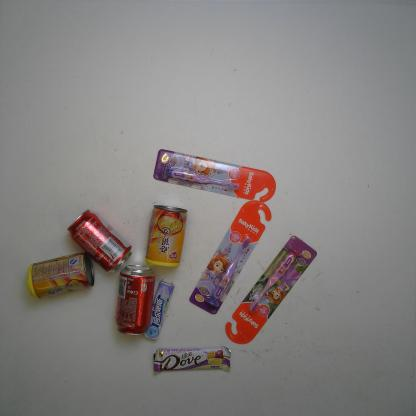Candy: (143, 278, 175, 340)
Canned Food: (26, 252, 95, 300), (145, 205, 188, 269)
Chocolate: (152, 346, 232, 375)
Drink: (67, 208, 133, 274), (115, 263, 156, 336)
Personal Hygiene: (224, 235, 317, 345), (188, 199, 273, 314), (152, 148, 276, 202)
